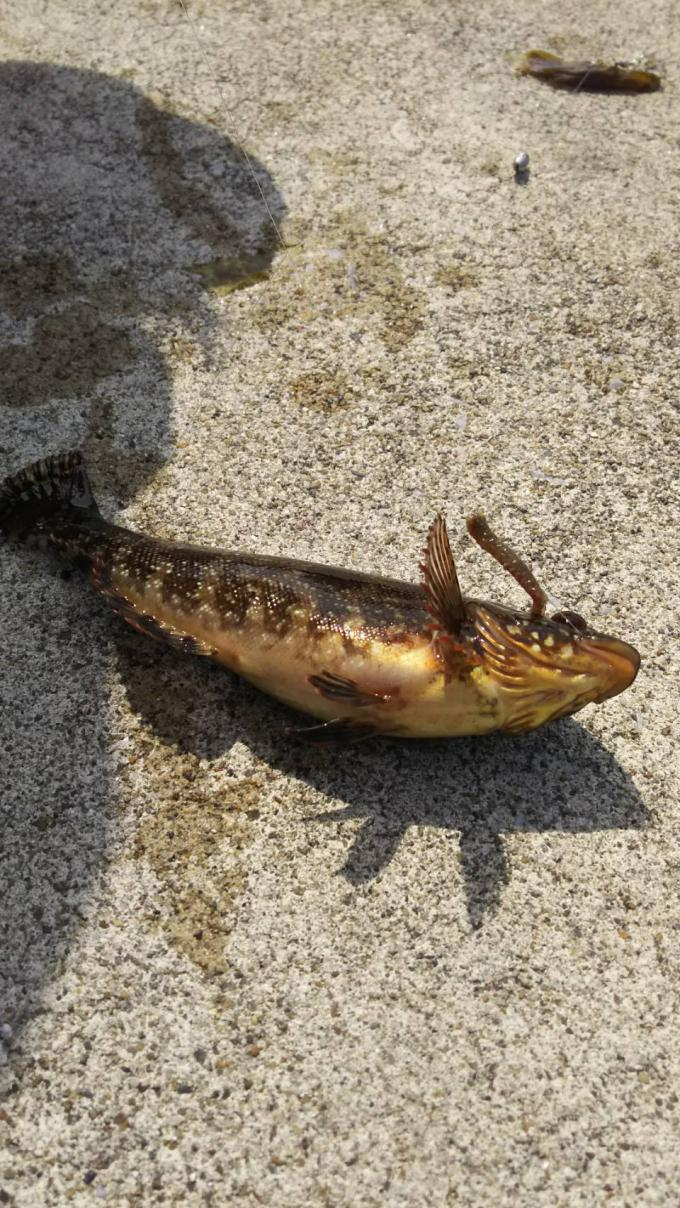kiss: (518, 39, 665, 103)
